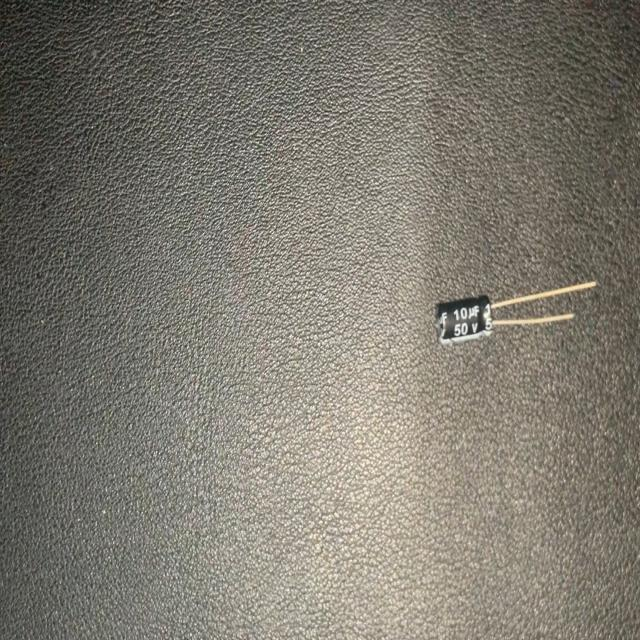capacitor: (436, 278, 598, 346)
